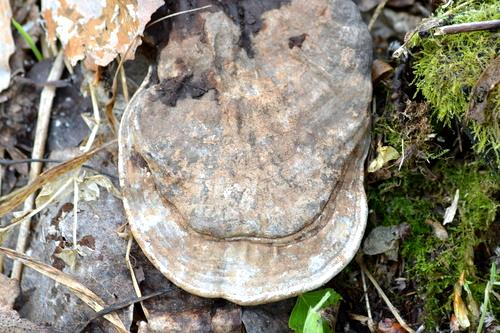Ganoderma - Fruit Body: (117, 2, 377, 305)
